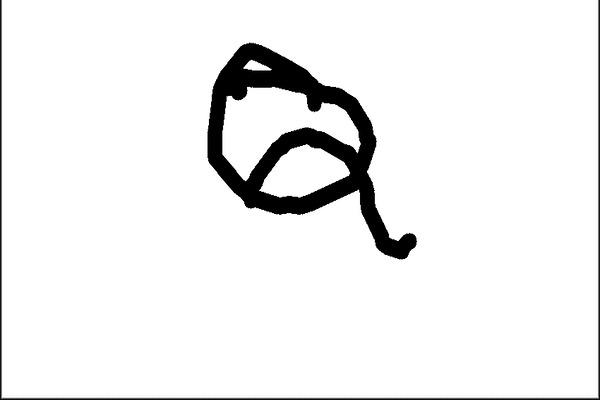Q: (187, 31, 436, 271)
